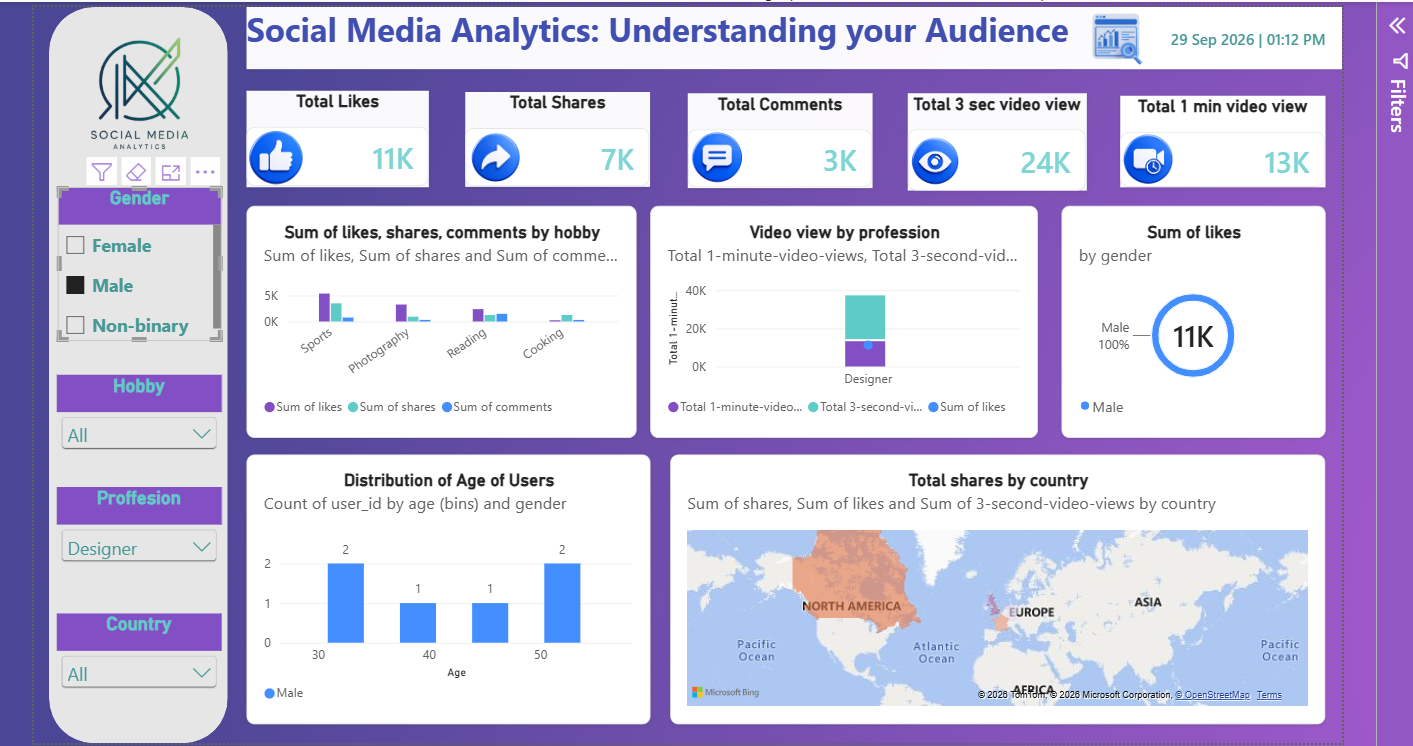

The dashboard page shown, as its layout file describes it:
{"tool":"powerbi","page":{"name":"Dashboard","canvas":[1280,720],"ordinal":0},"visuals":[{"type":"shape","box":[14.7,0,174.9,720.2],"z":1000},{"type":"textbox","box":[207.9,0,1072.4,61.1],"z":2000},{"type":"image","box":[3.7,8.6,199.3,151.6],"z":3000},{"type":"cardVisual","title":"Total Likes","fields":{"Data":["Sum(social_media_analysis.likes)"]},"box":[207.9,81.9,178.5,94.2],"z":4000},{"type":"cardVisual","title":"Total Shares","fields":{"Data":["Sum(social_media_analysis.shares)"]},"box":[421.9,83.2,181,92.9],"z":5000},{"type":"cardVisual","title":"Total Comments","fields":{"Data":["Sum(social_media_analysis.comments)"]},"box":[639.5,84.4,181,92.9],"z":6000},{"type":"cardVisual","title":"Total 1 min video view","fields":{"Data":["Sum(social_media_analysis.1-minute-video-views)"]},"box":[1062.6,86.8,200.5,89.3],"z":7000},{"type":"cardVisual","title":"Total 3 sec video view","fields":{"Data":["Sum(social_media_analysis.3-second-video-views)"]},"box":[854.8,84.4,174.9,95.4],"z":8000},{"type":"clusteredColumnChart","title":"Sum of likes, shares, comments by hobby","fields":{"Category":["social_media_analysis.hobby"],"Y":["Sum(social_media_analysis.likes)","Sum(social_media_analysis.shares)","Sum(social_media_analysis.comments)"]},"box":[207.9,194.4,381.5,227.4],"z":9000},{"type":"lineStackedColumnComboChart","title":"Video view by profession","fields":{"Category":["social_media_analysis.profession"],"Y":["Sum(social_media_analysis.1-minute-video-views)","Sum(social_media_analysis.3-second-video-views)"],"Y2":["Sum(social_media_analysis.likes)"]},"box":[602.9,194.4,379.1,227.4],"z":10000},{"type":"donutChart","fields":{"Category":["social_media_analysis.gender"],"Y":["Sum(social_media_analysis.likes)"]},"box":[1005.2,194.4,258,227.4],"z":11000},{"type":"columnChart","title":"Distribution of Age of Users","fields":{"Category":["social_media_analysis.age (bins)"],"Y":["CountNonNull(social_media_analysis.user_id)"],"Series":["social_media_analysis.gender"]},"box":[207.9,437.8,395,264.1],"z":12000},{"type":"slicer","title":"Gender","fields":{"Values":["social_media_analysis.gender"]},"box":[23.2,176.1,160.2,150.4],"z":13000},{"type":"slicer","title":"Hobby","fields":{"Values":["social_media_analysis.hobby"]},"box":[22,359.5,161.4,78.3],"z":14000},{"type":"slicer","title":"Proffesion","fields":{"Values":["social_media_analysis.profession"]},"box":[22,469.6,161.4,78.3],"z":15000},{"type":"filledMap","title":"Total shares by country","fields":{"Category":["social_media_analysis.country"]},"box":[622.4,437.8,640.8,264.1],"z":16000},{"type":"slicer","title":"Country","fields":{"Values":["social_media_analysis.country"]},"box":[22,593.1,161.4,78.3],"z":17000},{"type":"image","box":[421.9,97.8,59.9,100.3],"z":18000},{"type":"image","box":[639.5,105.2,57.5,84.4],"z":19000},{"type":"image","box":[854.8,107.6,53.8,86.8],"z":20000},{"type":"image","box":[1062.6,110.1,55,79.5],"z":21000},{"type":"image","box":[207.9,105.2,57.5,85.6],"z":22000},{"type":"cardVisual","fields":{"Data":["social_media_analysis.Last Update"]},"box":[1062.6,0,217.7,61.1],"z":23000},{"type":"image","box":[1032.1,0,53.8,61.1],"z":24000}]}

Visuals, with their boxes in screenshot pixels (x1, y1, x2, y2):
shape: region(44, 4, 223, 741)
textbox: region(242, 4, 1339, 66)
image: region(33, 12, 237, 168)
"Total Likes" cardVisual: region(242, 87, 425, 184)
"Total Shares" cardVisual: region(461, 89, 646, 184)
"Total Comments" cardVisual: region(684, 90, 869, 185)
"Total 1 min video view" cardVisual: region(1117, 92, 1322, 184)
"Total 3 sec video view" cardVisual: region(904, 90, 1083, 188)
"Sum of likes, shares, comments by hobby" clusteredColumnChart: region(242, 203, 632, 435)
"Video view by profession" lineStackedColumnComboChart: region(646, 203, 1034, 435)
donutChart - social_media_analysis.gender x Sum(social_media_analysis.likes): region(1058, 203, 1322, 435)
"Distribution of Age of Users" columnChart: region(242, 452, 646, 722)
"Gender" slicer: region(53, 184, 217, 338)
"Hobby" slicer: region(52, 371, 217, 452)
"Proffesion" slicer: region(52, 484, 217, 564)
"Total shares by country" filledMap: region(666, 452, 1322, 722)
"Country" slicer: region(52, 610, 217, 691)
image: region(461, 104, 522, 206)
image: region(684, 111, 743, 198)
image: region(904, 114, 959, 203)
image: region(1117, 116, 1173, 198)
image: region(242, 111, 301, 199)
cardVisual - social_media_analysis.Last Update: region(1117, 4, 1339, 66)
image: region(1085, 4, 1140, 66)
